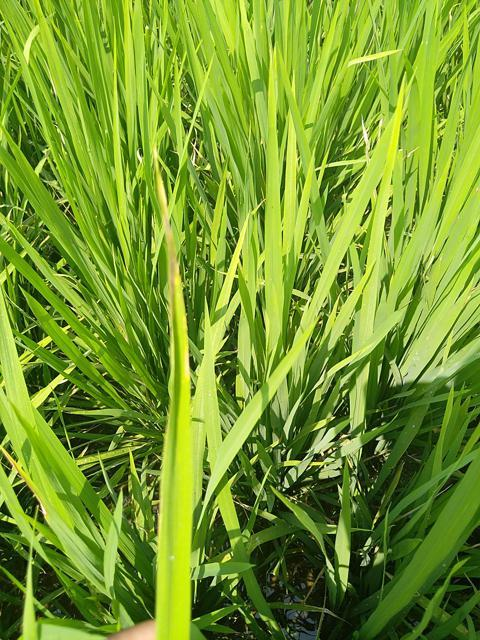Leaf Blight: (155, 161, 196, 639)
